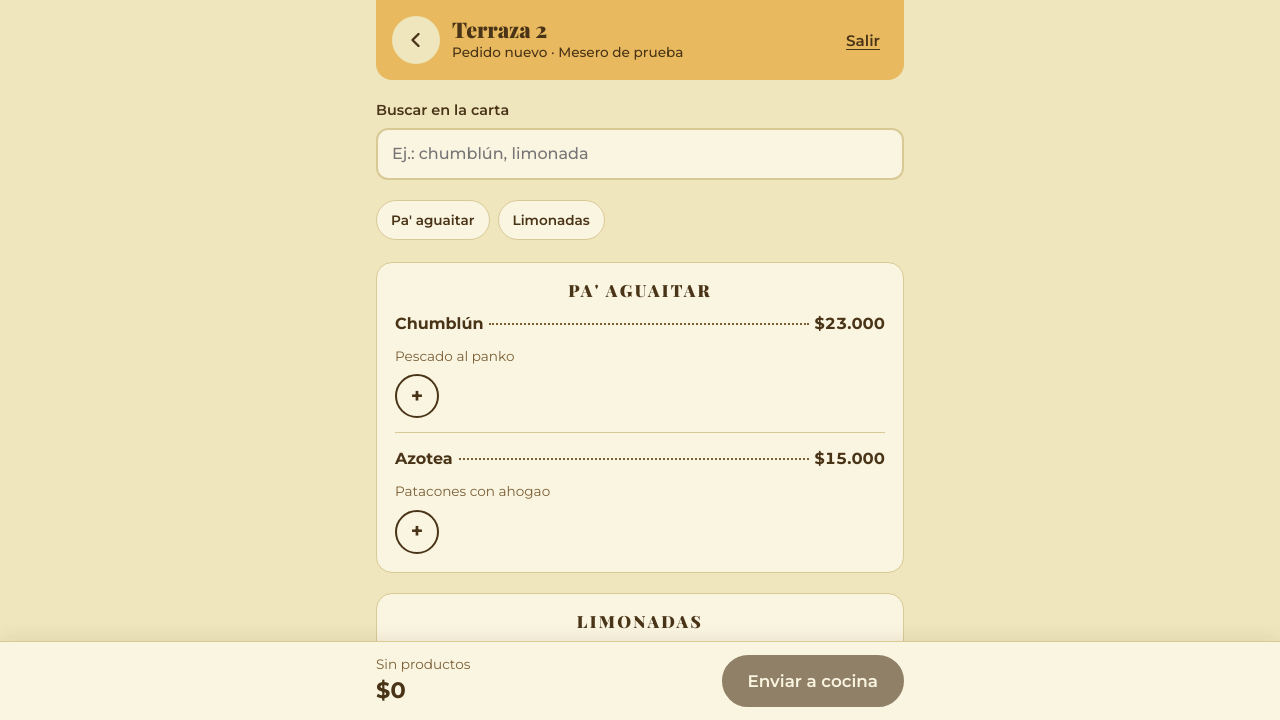
Test: Tomar pedido (HU04) › suma cantidades, agrega notas y envía el pedido a cocina
expect the text "Chumblún" is shown: met, box [395,312,484,336]
expect the button "Enviar a cocina" is disabled: met, box [722,655,904,707]
Click the button named "Agregar Azotea": (417, 532) [395,510,439,554]
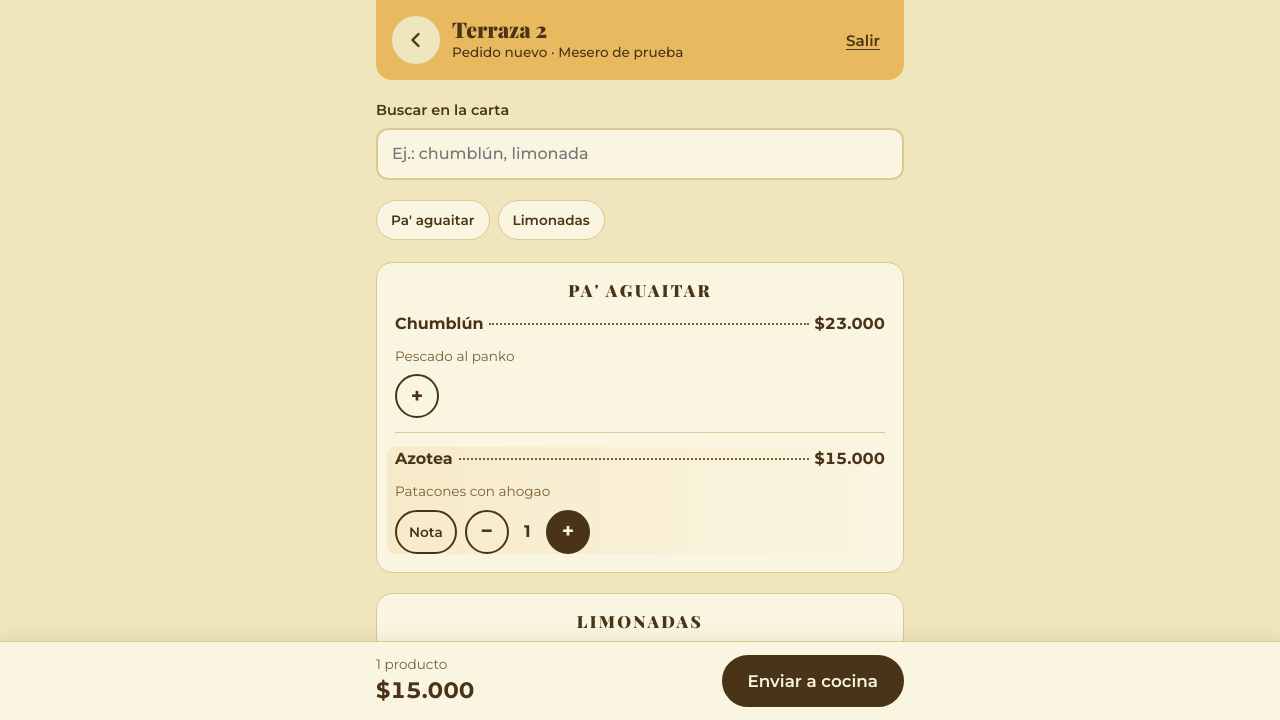
Click the button named "Agregar uno de Azotea": (568, 532) [546,510,590,554]
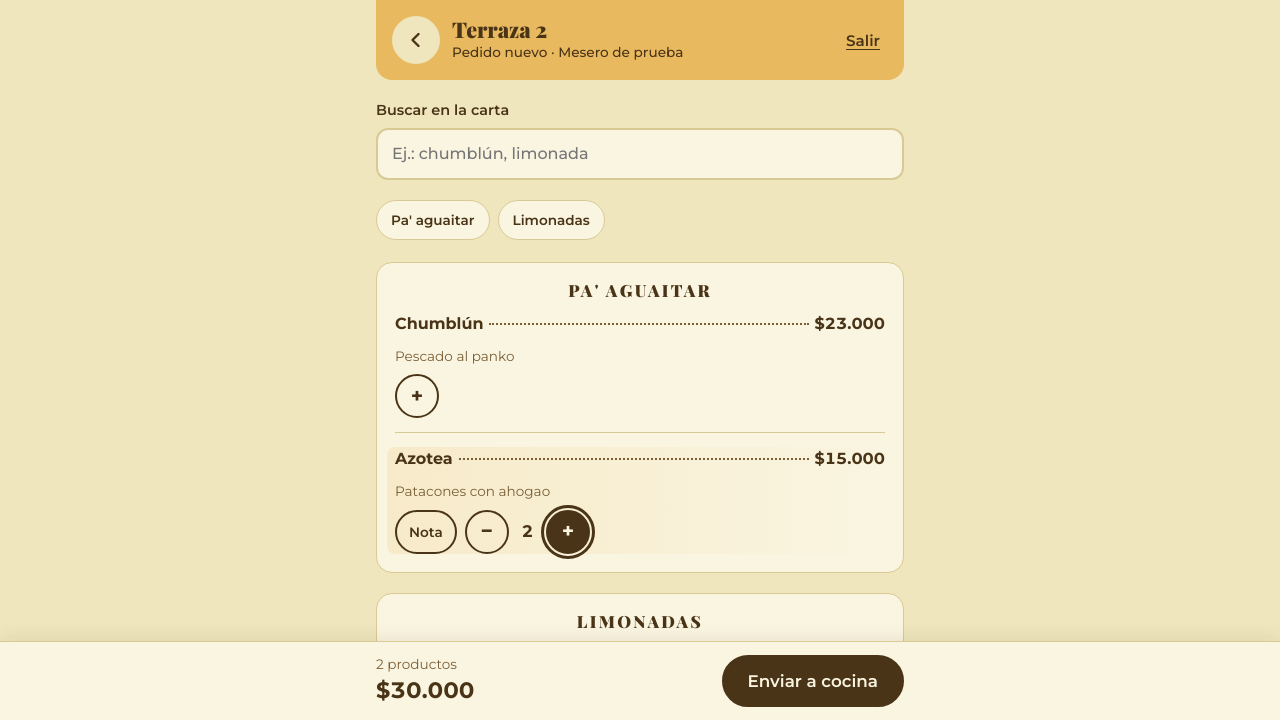
Click the button named "Agregar Chumblún": (417, 396) [395,374,439,418]
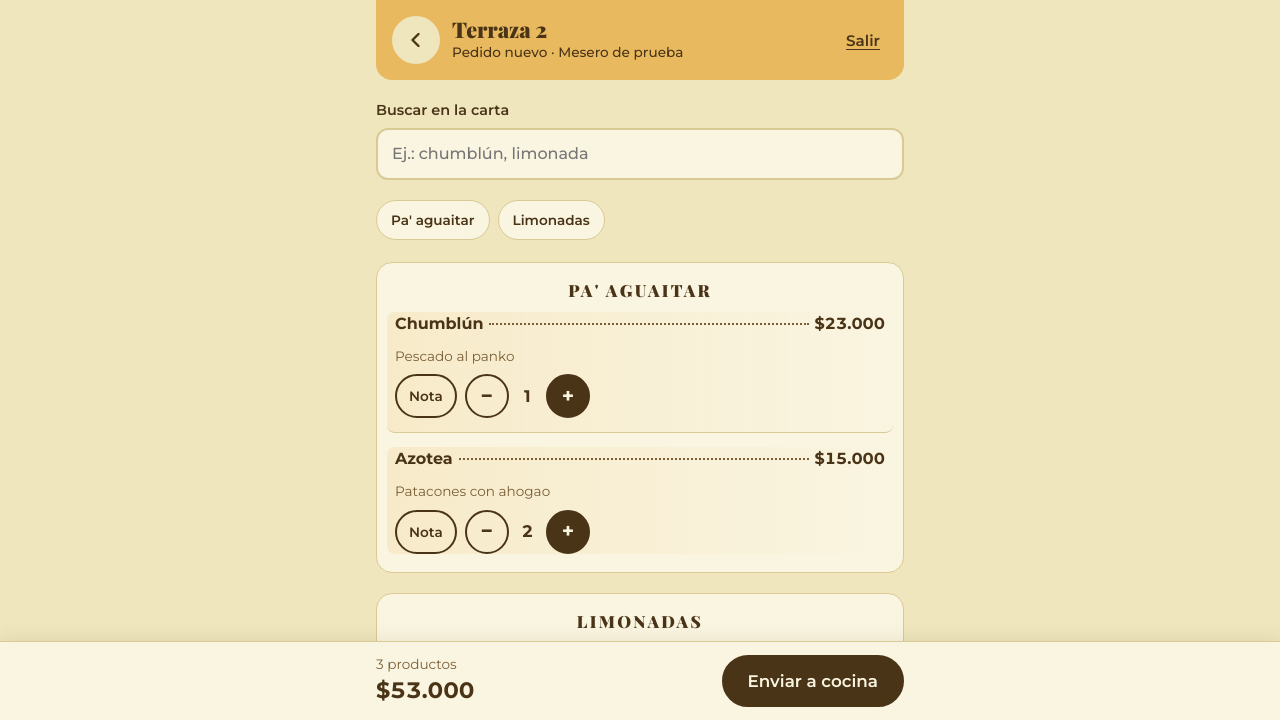
expect the text "3 productos" is shown: met, box [376,656,457,672]
expect the text "$53.000" is shown: met, box [376,674,474,708]
Click the button "Nota" below "Azotea": (426, 532) [395,510,457,554]
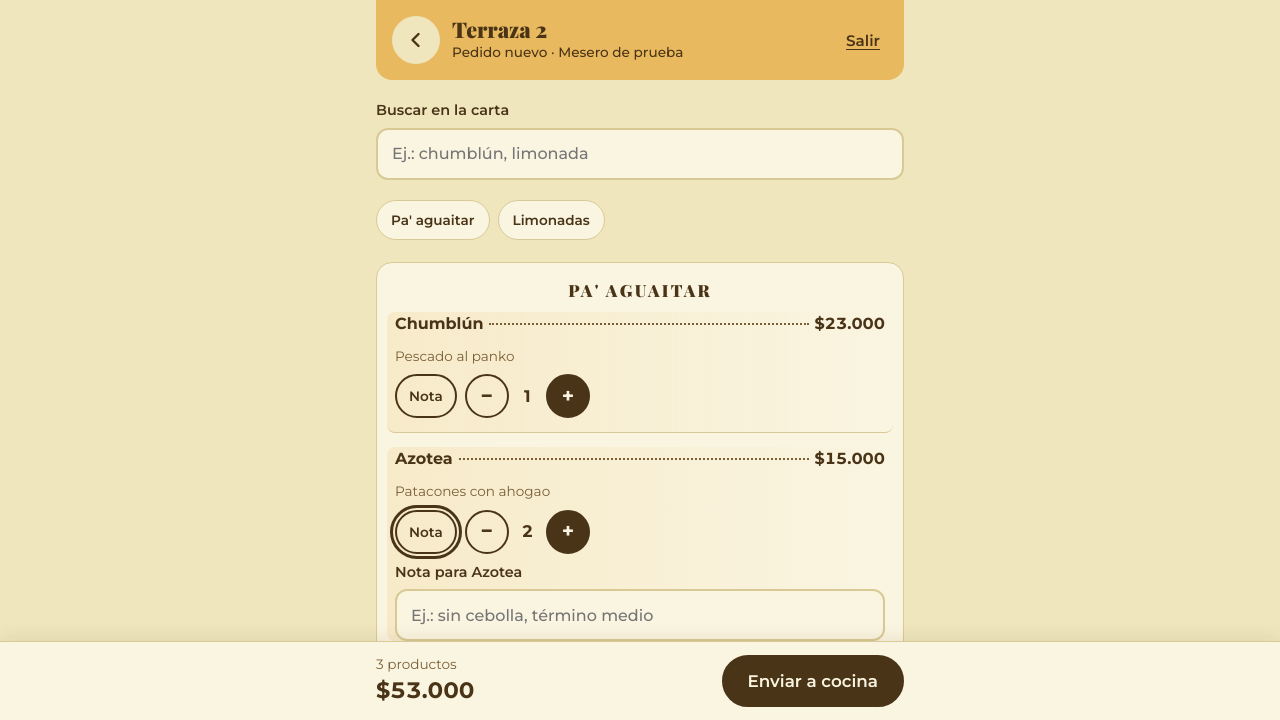
In the field labelled "Nota para Azotea": (640, 615) [395,589,885,641], type "sin cebolla"
Then press Enter
(page scrolled)
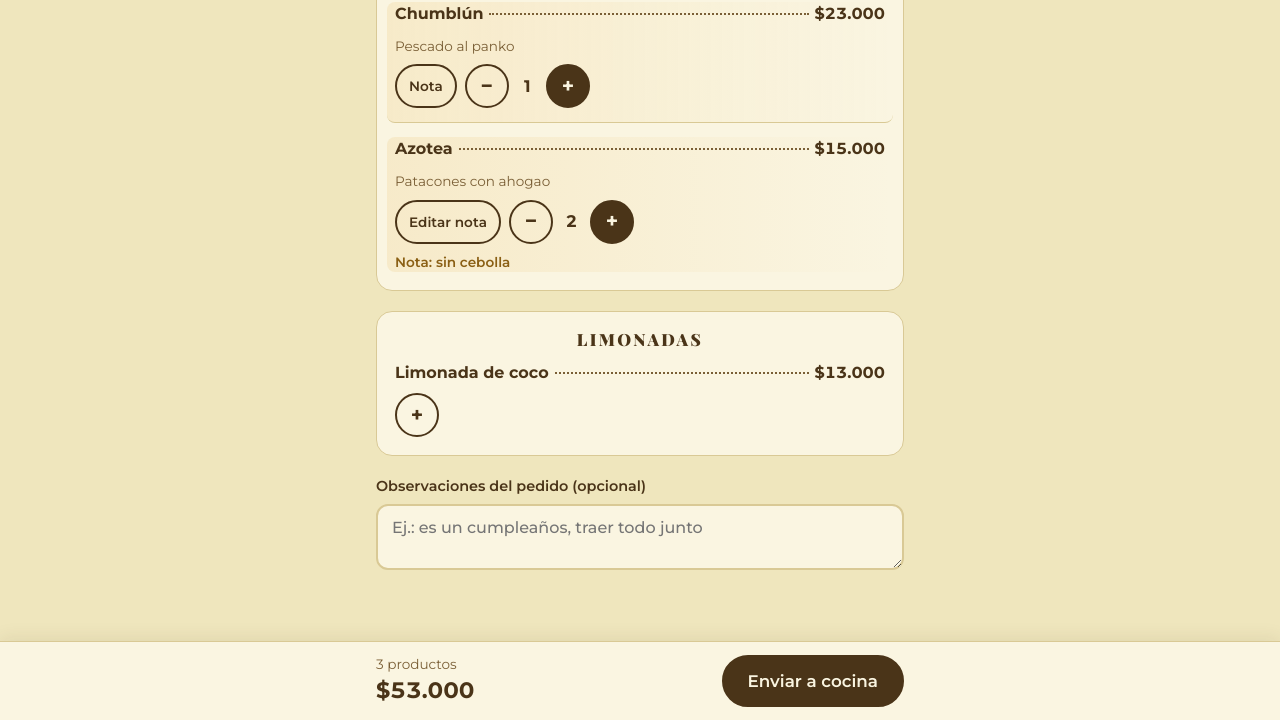
expect the text "Nota: sin cebolla" is shown: met, box [395,254,510,270]
In the text box labelled "Observaciones del pedido (opcional)": (640, 537) [376,504,904,570], type "Cumpleaños"
Click the button "Enviar a cocina": (813, 681) [722,655,904,707]
(page scrolled)
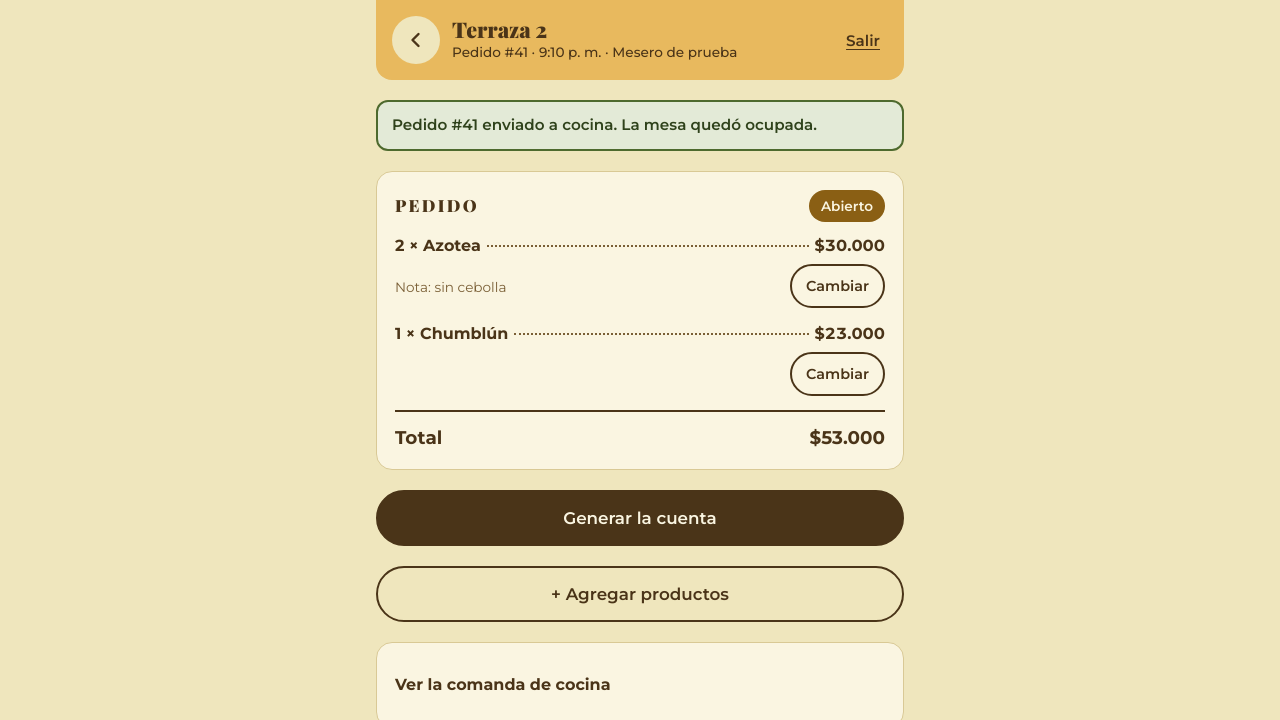
expect the message shows "Pedido #41 enviado a cocina": met, box [392,115,817,134]
expect the text "$53.000" is shown: met, box [810,424,885,451]
